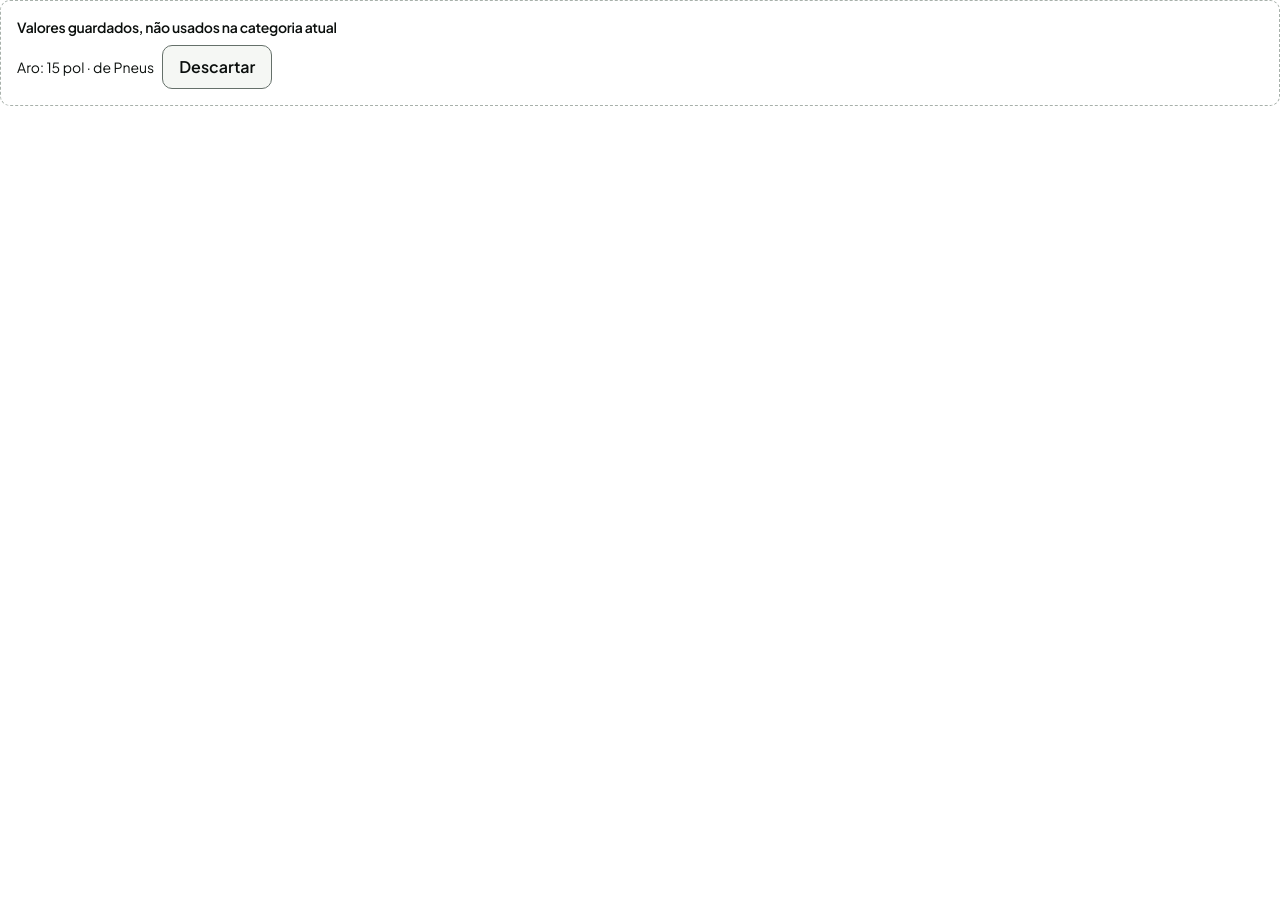
o produto que mudou de categoria (AC-329) › @spec:AC-329 desistir do descarte mantém o valor guardado sem nova chamada
The image size is (1280, 900).
Click the button "Descartar" at (217, 67), box [162, 45, 272, 89]
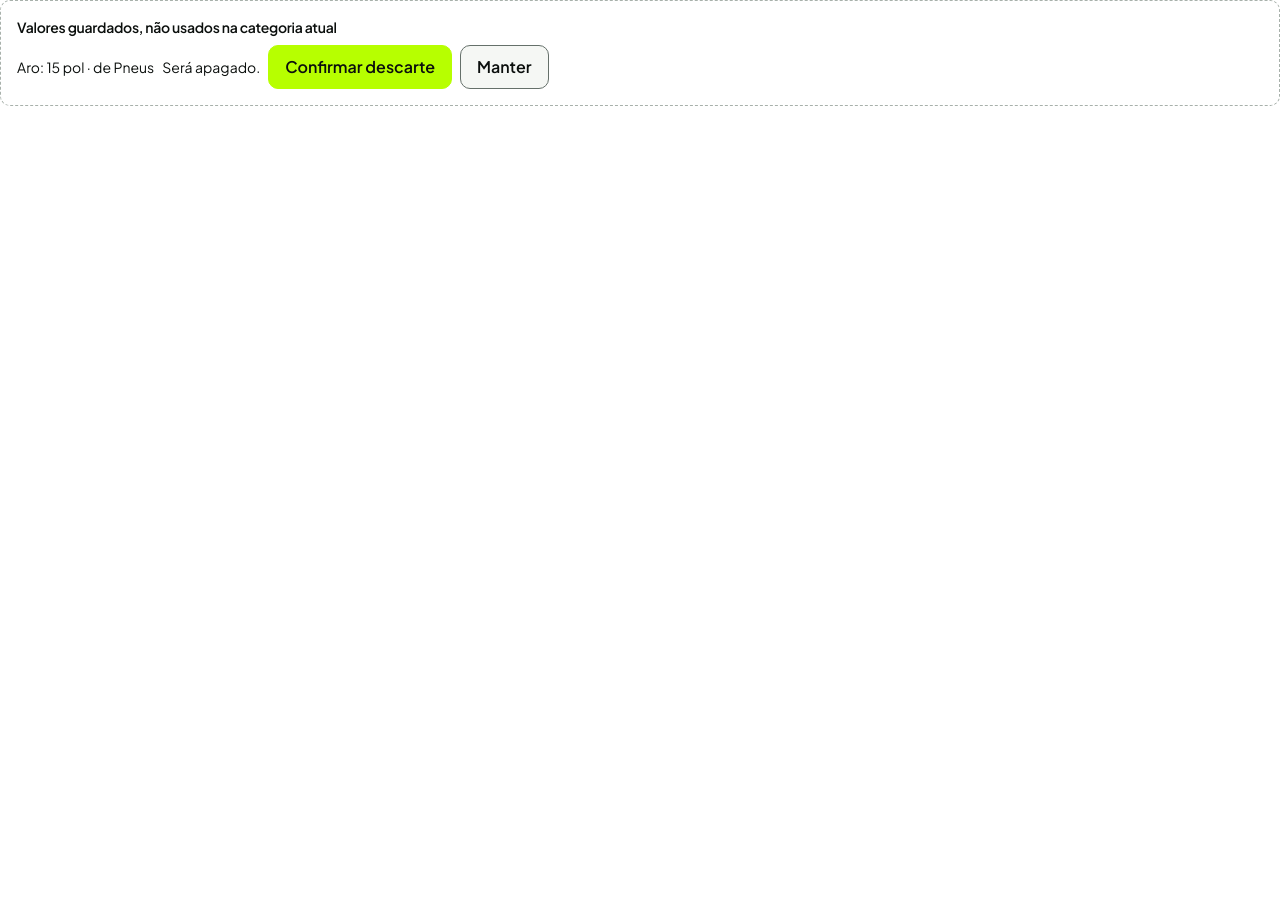
Click the button "Manter" at (504, 67), box [460, 45, 548, 89]
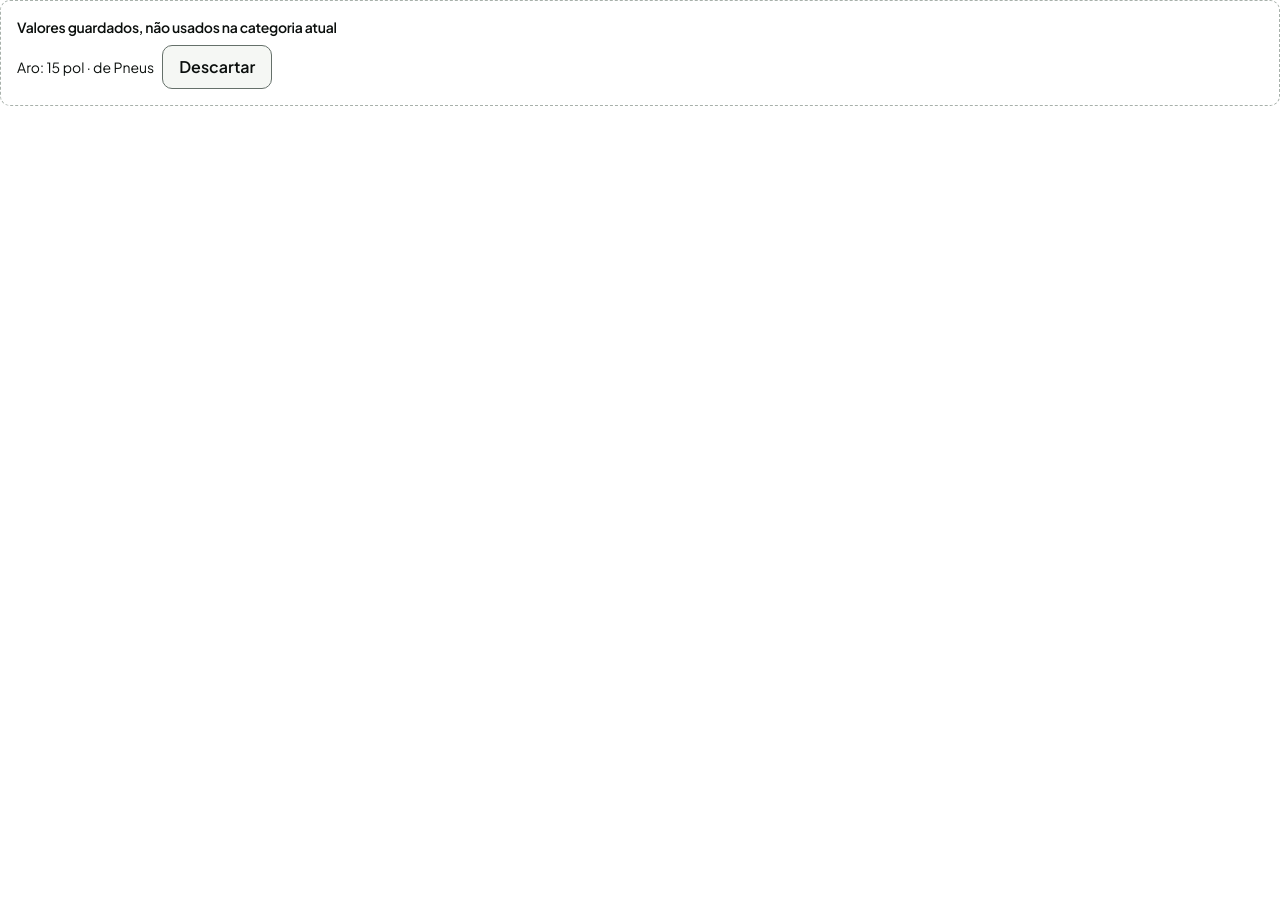
Expected: the text "Aro: 15" is shown, [17, 58, 154, 76]
Now the dialog is gone
